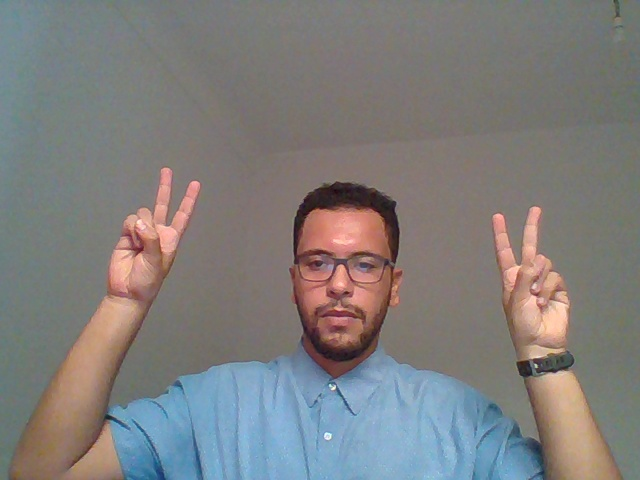vectory: (71, 129, 227, 399), (453, 181, 598, 450)
